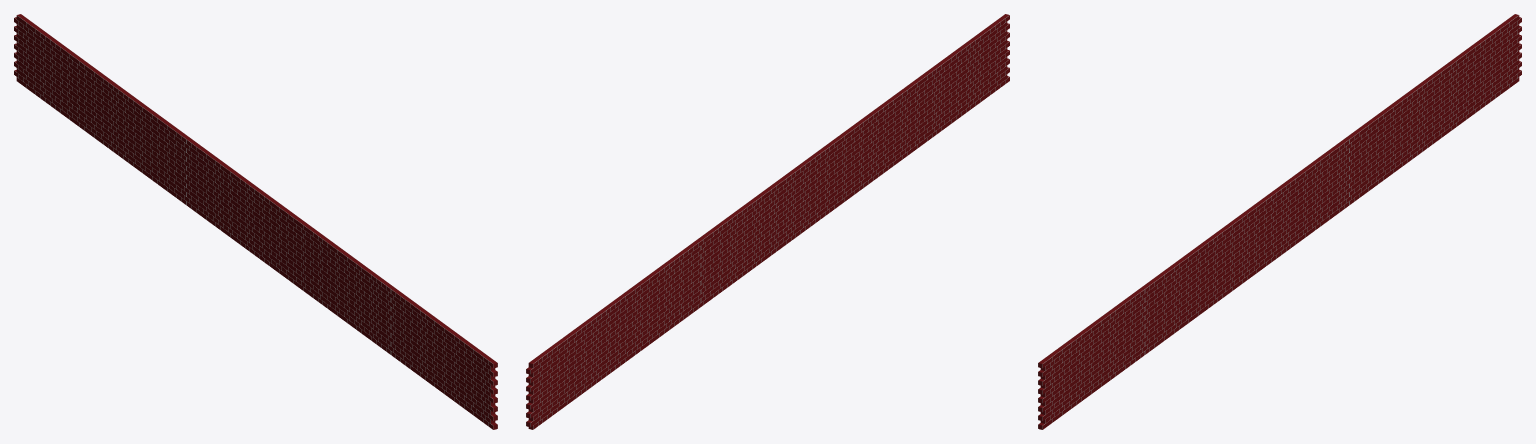
Rendered from muro2.obj.
The picture shows the model from 3 angles, left to right: view 1: azimuth 30°, elevation 25°; view 2: azimuth 150°, elevation 25°; view 3: azimuth 330°, elevation 25°; orthographic projection.
Parts seen in each view (by area): view 1: Mesh.012_Brick_Centre_1_Bricks_Center.012, Mesh.010_Brick_Centre_1_Bricks_Center.010, Mesh.007_Brick_Centre_1_Bricks_Center.007, Mesh.004_Brick_Centre_1_Bricks_Center.004, Mesh.011_Brick_Centre_1_Bricks_Center.011, Mesh.008_Brick_Centre_1_Bricks_Center.008, Mesh.005_Brick_Centre_1_Bricks_Center.005, Mesh.013_Brick_Centre_1_Bricks_Center.013, Mesh.006_Brick_Centre_1_Bricks_Center.006, Mesh_Brick_Centre_1_Bricks_Center, Mesh.001_Brick_Centre_1_Bricks_Center.001, Mesh.009_Brick_Centre_1_Bricks_Center.009 (+2 smaller); view 2: Mesh.013_Brick_Centre_1_Bricks_Center.013, Mesh.012_Brick_Centre_1_Bricks_Center.012, Mesh.001_Brick_Centre_1_Bricks_Center.001, Mesh.010_Brick_Centre_1_Bricks_Center.010, Mesh.004_Brick_Centre_1_Bricks_Center.004, Mesh.011_Brick_Centre_1_Bricks_Center.011, Mesh.003_Brick_Centre_1_Bricks_Center.003, Mesh.008_Brick_Centre_1_Bricks_Center.008, Mesh_Brick_Centre_1_Bricks_Center, Mesh.007_Brick_Centre_1_Bricks_Center.007, Mesh.009_Brick_Centre_1_Bricks_Center.009, Mesh.002_Brick_Centre_1_Bricks_Center.002 (+2 smaller); view 3: Mesh.012_Brick_Centre_1_Bricks_Center.012, Mesh.006_Brick_Centre_1_Bricks_Center.006, Mesh.008_Brick_Centre_1_Bricks_Center.008, Mesh.004_Brick_Centre_1_Bricks_Center.004, Mesh.011_Brick_Centre_1_Bricks_Center.011, Mesh.010_Brick_Centre_1_Bricks_Center.010, Mesh.007_Brick_Centre_1_Bricks_Center.007, Mesh.005_Brick_Centre_1_Bricks_Center.005, Mesh.013_Brick_Centre_1_Bricks_Center.013, Mesh.001_Brick_Centre_1_Bricks_Center.001, Mesh_Brick_Centre_1_Bricks_Center, Mesh.009_Brick_Centre_1_Bricks_Center.009 (+2 smaller).
Part boxes in pixels (box(x1,y1,x2,y2)): Mesh.012_Brick_Centre_1_Bricks_Center.012: box(457, 338, 497, 429); Mesh.010_Brick_Centre_1_Bricks_Center.010: box(388, 288, 428, 379); Mesh.007_Brick_Centre_1_Bricks_Center.007: box(82, 64, 122, 155); Mesh.004_Brick_Centre_1_Bricks_Center.004: box(150, 113, 190, 205); Mesh.011_Brick_Centre_1_Bricks_Center.011: box(422, 313, 463, 404); Mesh.008_Brick_Centre_1_Bricks_Center.008: box(354, 263, 395, 354); Mesh.005_Brick_Centre_1_Bricks_Center.005: box(116, 89, 156, 180); Mesh.013_Brick_Centre_1_Bricks_Center.013: box(14, 14, 54, 105); Mesh.006_Brick_Centre_1_Bricks_Center.006: box(48, 39, 88, 130); Mesh_Brick_Centre_1_Bricks_Center: box(218, 163, 258, 255); Mesh.001_Brick_Centre_1_Bricks_Center.001: box(184, 138, 224, 230); Mesh.009_Brick_Centre_1_Bricks_Center.009: box(320, 238, 361, 329); Mesh.013_Brick_Centre_1_Bricks_Center.013: box(526, 338, 566, 429); Mesh.012_Brick_Centre_1_Bricks_Center.012: box(971, 14, 1009, 105); Mesh.001_Brick_Centre_1_Bricks_Center.001: box(699, 213, 737, 304); Mesh.010_Brick_Centre_1_Bricks_Center.010: box(903, 64, 941, 155); Mesh.004_Brick_Centre_1_Bricks_Center.004: box(665, 238, 703, 330); Mesh.011_Brick_Centre_1_Bricks_Center.011: box(937, 39, 975, 130); Mesh.003_Brick_Centre_1_Bricks_Center.003: box(801, 138, 839, 230); Mesh.008_Brick_Centre_1_Bricks_Center.008: box(869, 89, 907, 180); Mesh_Brick_Centre_1_Bricks_Center: box(733, 188, 771, 279); Mesh.007_Brick_Centre_1_Bricks_Center.007: box(597, 288, 634, 379); Mesh.009_Brick_Centre_1_Bricks_Center.009: box(835, 114, 873, 204); Mesh.002_Brick_Centre_1_Bricks_Center.002: box(767, 163, 805, 255); Mesh.012_Brick_Centre_1_Bricks_Center.012: box(1038, 338, 1078, 429); Mesh.006_Brick_Centre_1_Bricks_Center.006: box(1447, 39, 1487, 130); Mesh.008_Brick_Centre_1_Bricks_Center.008: box(1140, 263, 1181, 354); Mesh.004_Brick_Centre_1_Bricks_Center.004: box(1345, 113, 1385, 205); Mesh.011_Brick_Centre_1_Bricks_Center.011: box(1072, 313, 1113, 404); Mesh.010_Brick_Centre_1_Bricks_Center.010: box(1107, 288, 1147, 379); Mesh.007_Brick_Centre_1_Bricks_Center.007: box(1413, 64, 1453, 155); Mesh.005_Brick_Centre_1_Bricks_Center.005: box(1379, 89, 1419, 180); Mesh.013_Brick_Centre_1_Bricks_Center.013: box(1481, 14, 1521, 105); Mesh.001_Brick_Centre_1_Bricks_Center.001: box(1311, 138, 1351, 230); Mesh_Brick_Centre_1_Bricks_Center: box(1277, 163, 1317, 255); Mesh.009_Brick_Centre_1_Bricks_Center.009: box(1175, 238, 1215, 329).
Size of the model in its own units: 6.76 by 90 by 1185.
